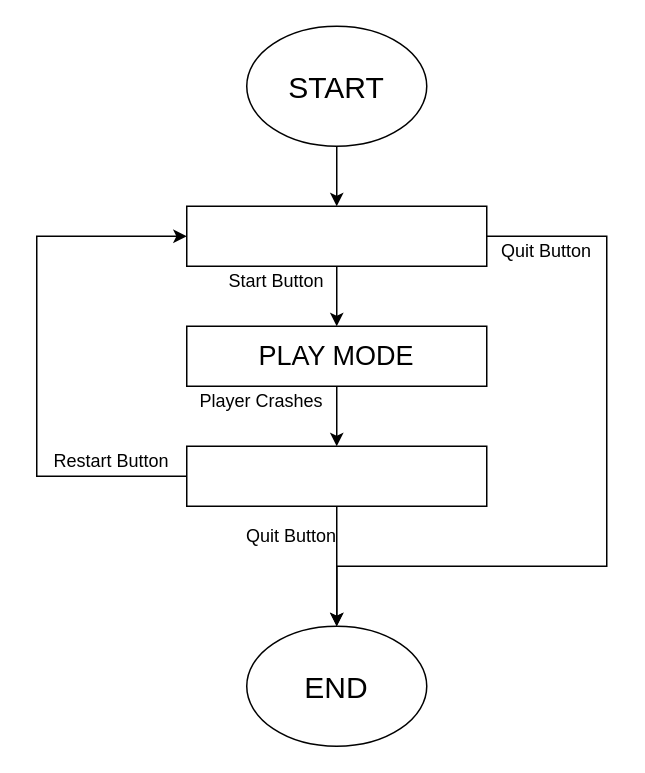
This 645x773 diagram has some shape labels left out. The box of each missing label's shape, as (x1, y1, x2, y2) in pixels:
GAMEOVER MODE: (185, 445, 487, 506)
INTRO MODE: (185, 205, 487, 266)
